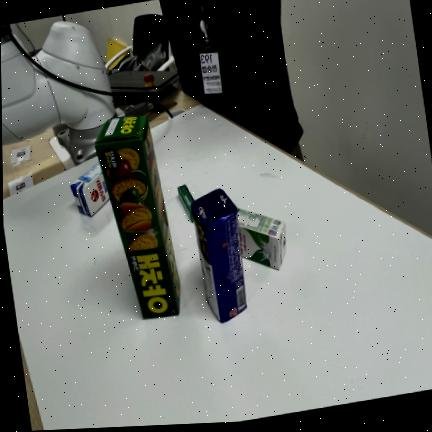cracker_ace: (191, 188, 246, 322)
cracker_vege: (95, 114, 180, 317)
gum_green: (177, 184, 194, 222)
milk_blue: (70, 162, 108, 216)
milk_green: (238, 209, 285, 269)
